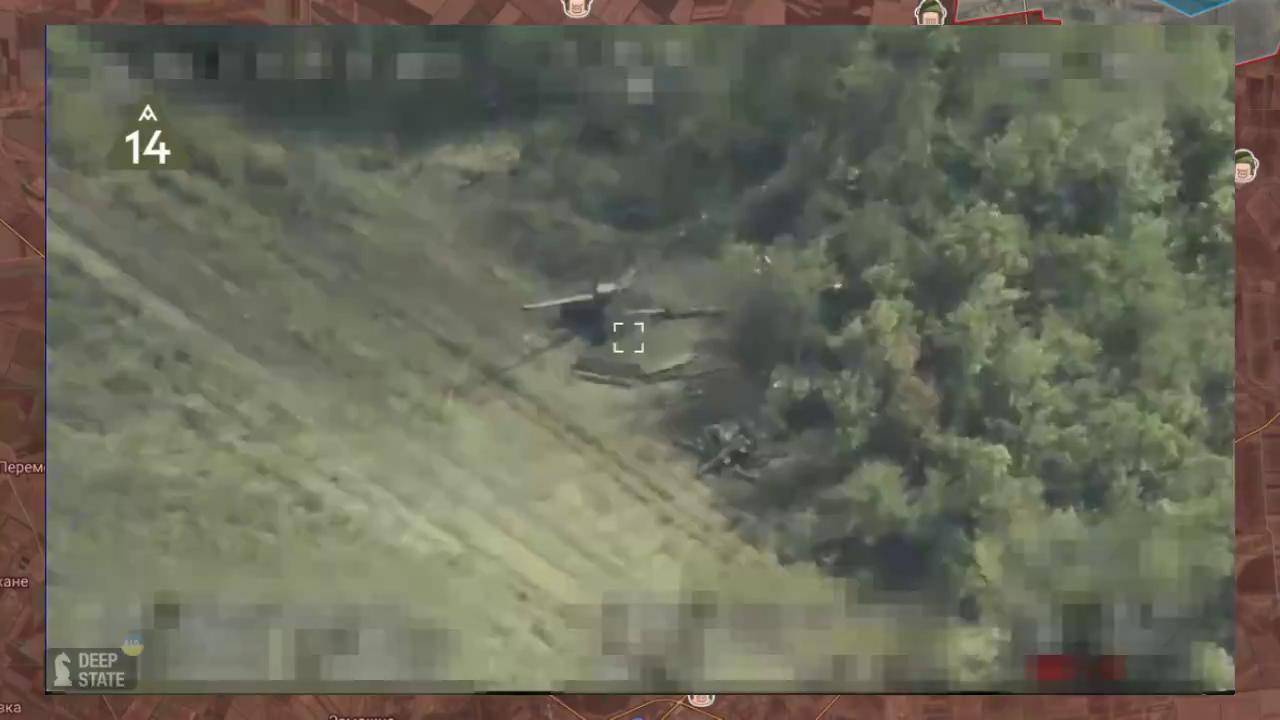tank: (520, 274, 725, 341)
